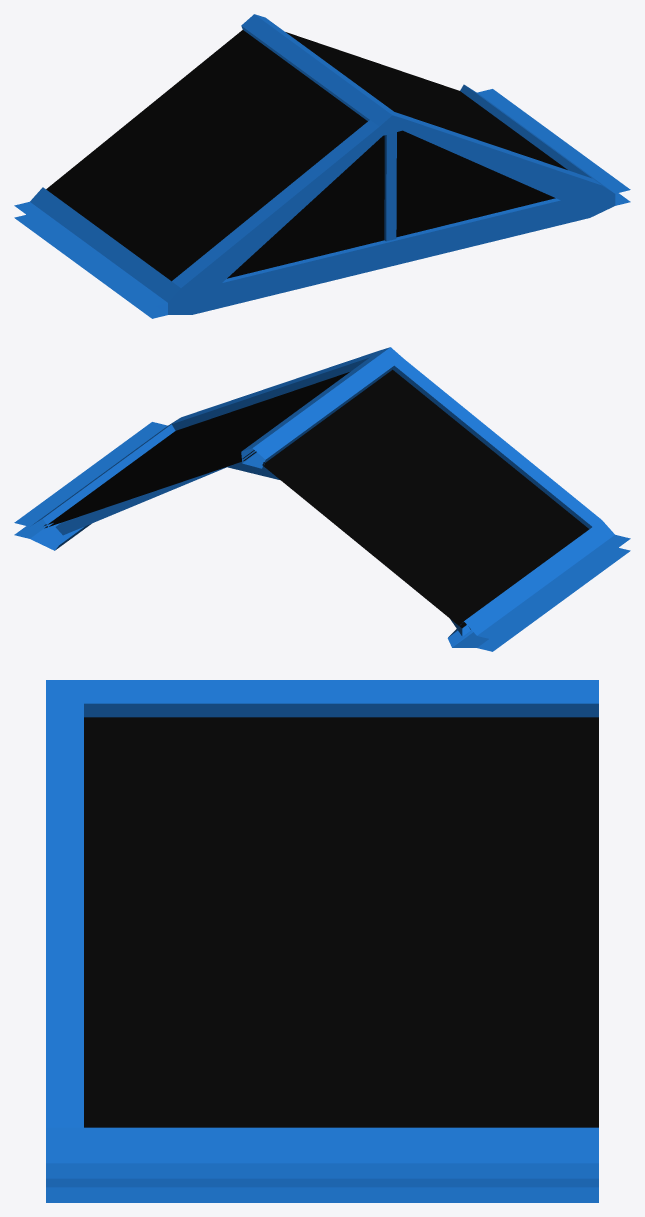
File: SM_roof2.fbx
3 renders of one model, top to bottom at view 1: azimuth 30°, elevation 25°; view 2: azimuth 150°, elevation 25°; view 3: azimuth 270°, elevation 25°, orthographic. The views are drawn at different scales.
Parts seen in each view (by area): view 1: roof2; view 2: roof2; view 3: roof2.
Boxes of the visible parts, x1,y1,x2,y2 form: roof2: [14, 14, 630, 318]; roof2: [14, 347, 630, 651]; roof2: [46, 680, 598, 1202].
Size of the model in its own units: 400 by 120 by 200.
